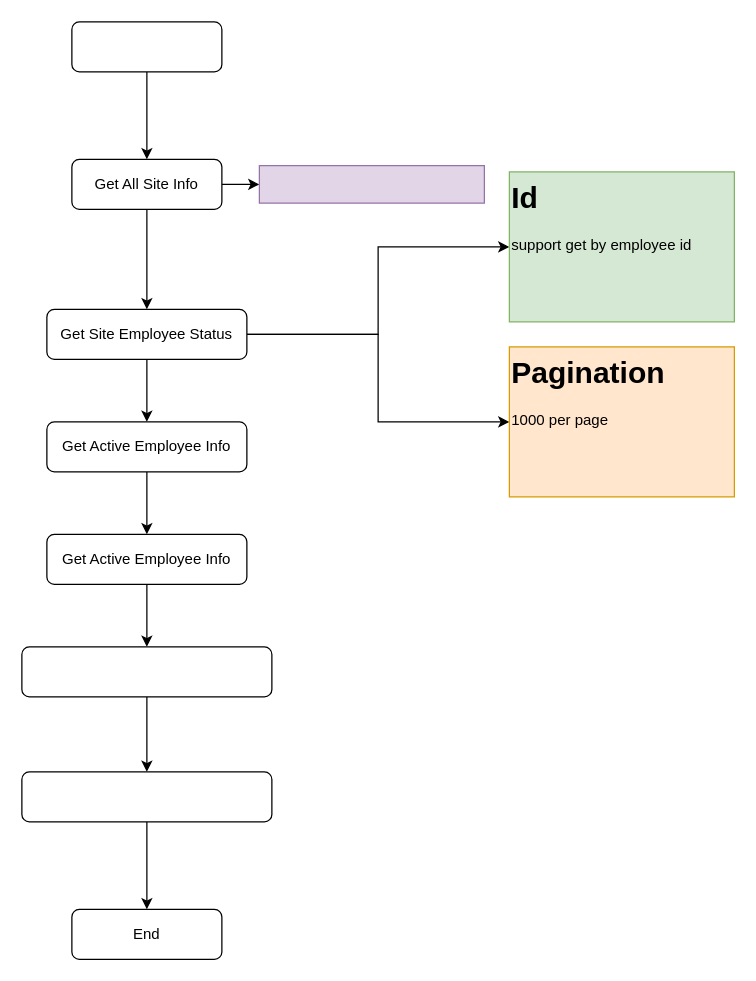
Image size: 756x981. Some labels were removed from this diagram. Each missing label, with the centre of its shape:
"filter_by_assigned_site=false" belongs at (x=371, y=183).
"Get XDM Commission Rates" belongs at (x=146, y=796).
"Get XVI Commission Rates" belongs at (x=146, y=671).
"Start" belongs at (x=146, y=46).
